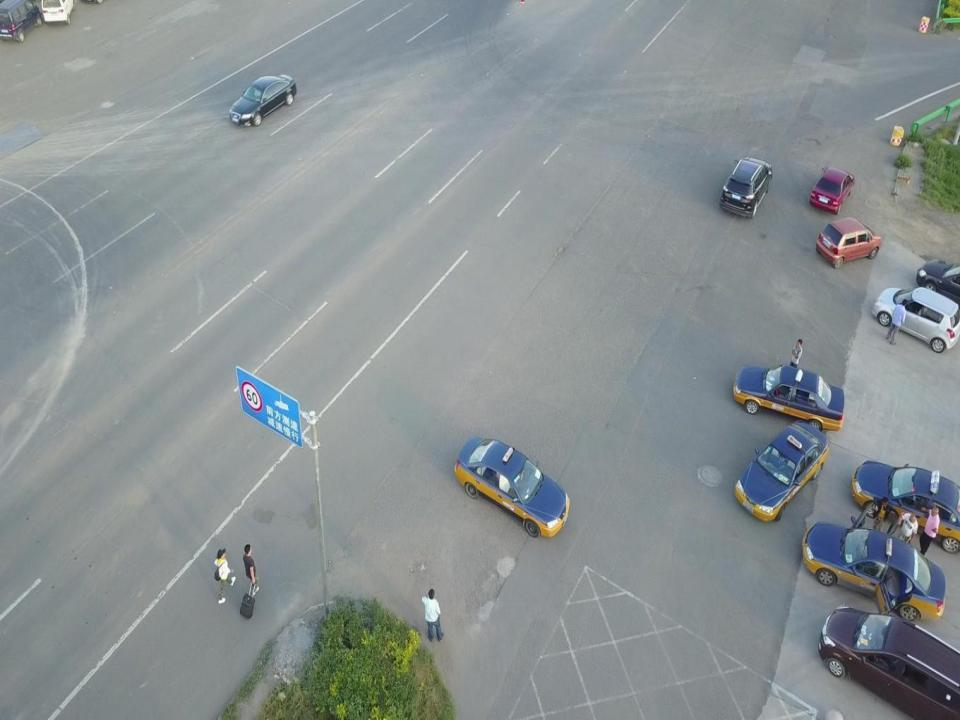car: (798, 518, 953, 618), (814, 603, 960, 706), (449, 432, 575, 541), (731, 421, 829, 522), (852, 459, 960, 546), (729, 365, 860, 430), (865, 284, 960, 360), (221, 72, 299, 131), (714, 156, 777, 221), (813, 214, 884, 270), (810, 166, 860, 214), (913, 255, 960, 292)
van: (0, 0, 40, 44), (41, 0, 74, 27)
